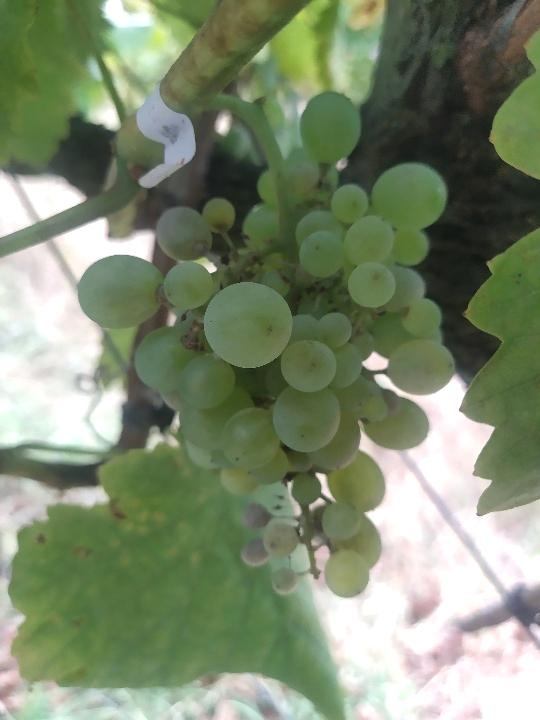grape: (74, 89, 453, 603)
